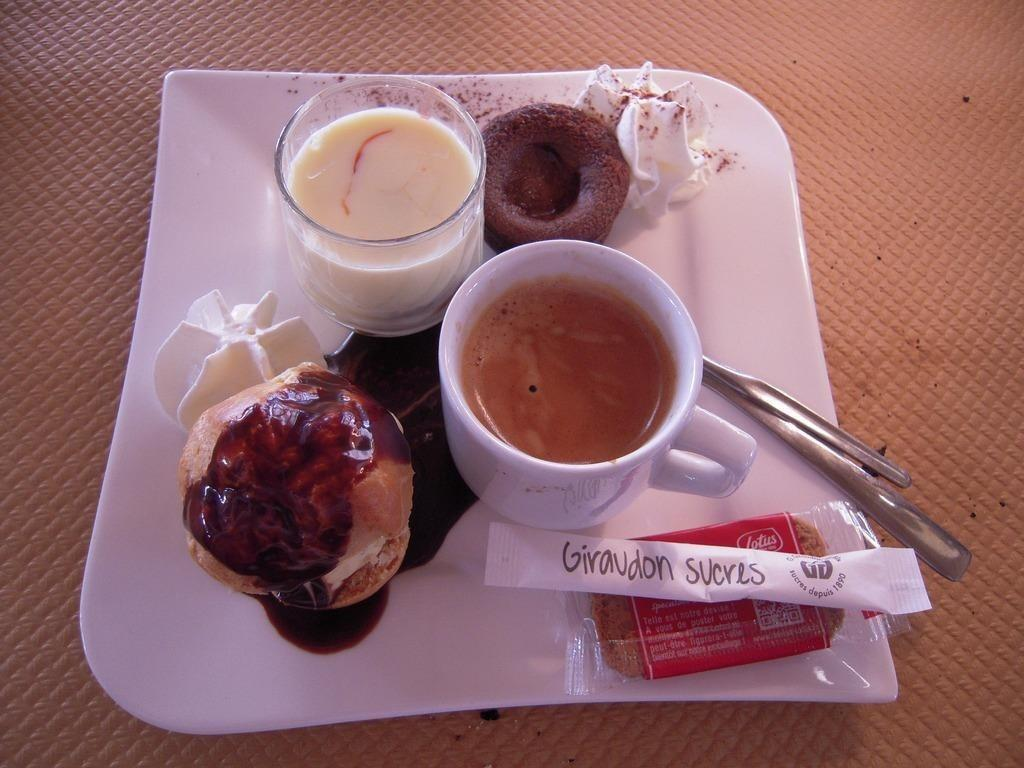cup-handle: (437, 238, 758, 531)
glass-normal: (273, 77, 498, 340)
